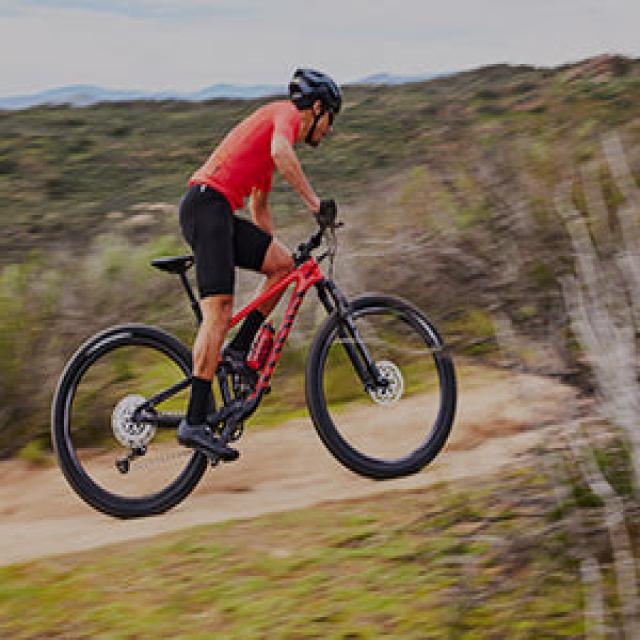bicycle: (51, 69, 459, 521)
